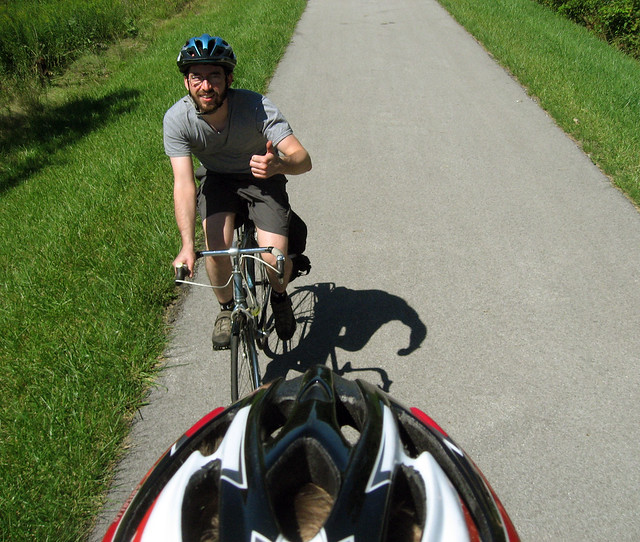helmet: (177, 27, 240, 73)
